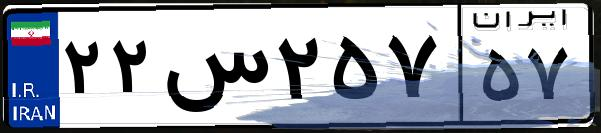2: (270, 28, 330, 110), (57, 26, 110, 100), (110, 28, 158, 98)
5: (330, 28, 385, 110), (475, 38, 525, 113)
7: (385, 28, 445, 110), (525, 38, 570, 115)
س: (158, 20, 270, 120)
